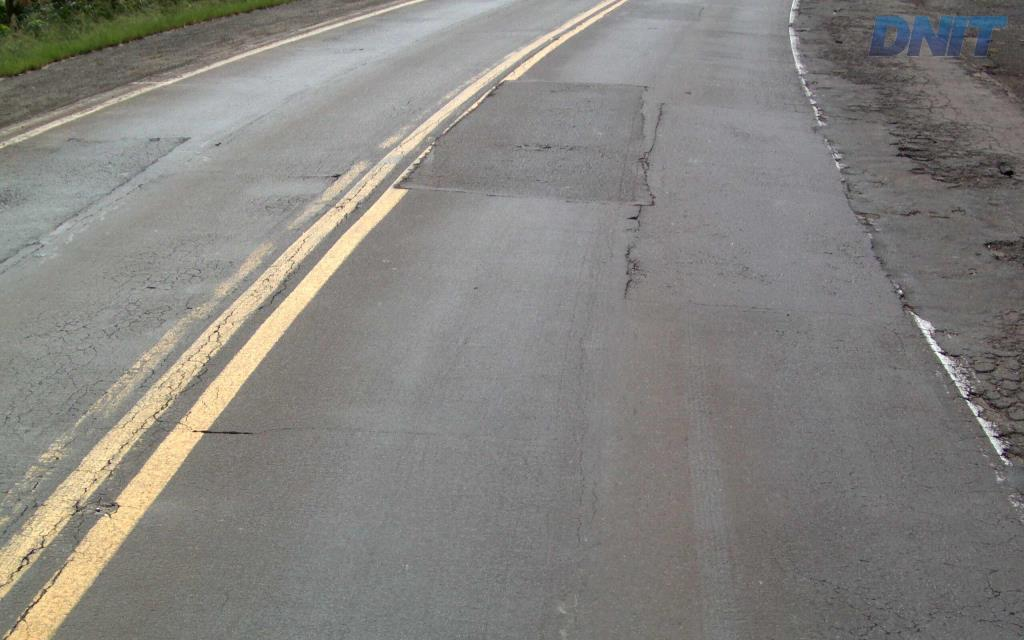pothole: (634, 145, 651, 175)
